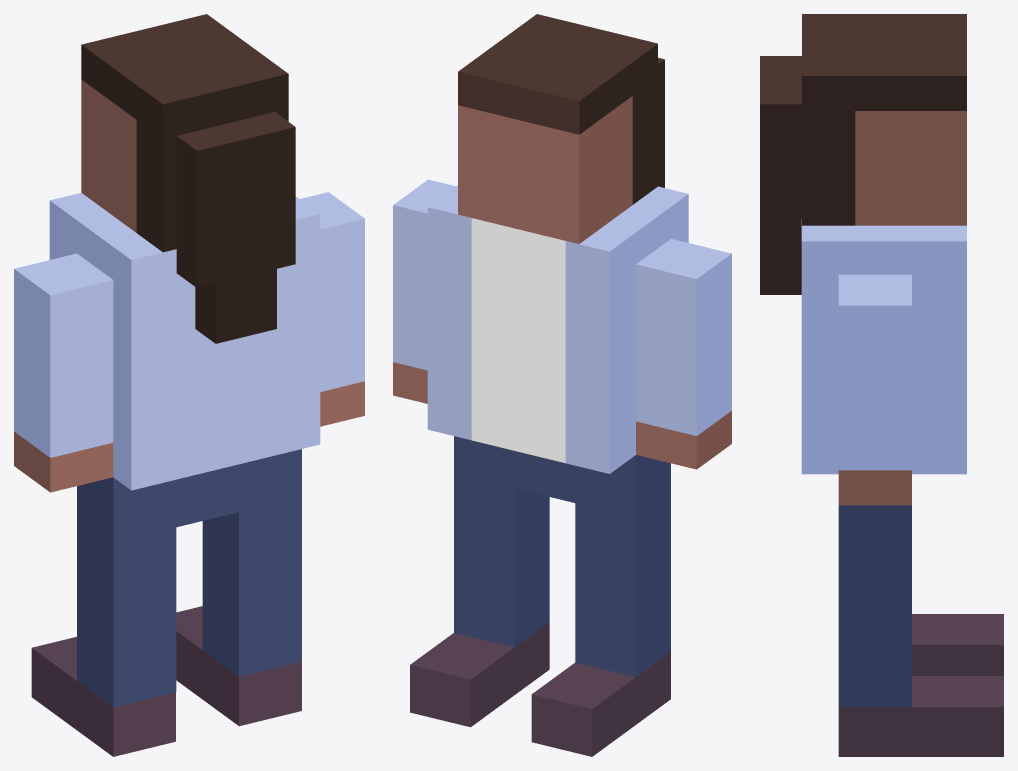
File: new-person-4.1.glb
3 renders of one model, left to right at view 1: azimuth 30°, elevation 25°; view 2: azimuth 150°, elevation 25°; view 3: azimuth 270°, elevation 25°, orthographic. The views are drawn at different scales.
Parts seen in each view (by area): view 1: UNIT.061, UNIT.065, UNIT.064, UNIT.063, UNIT.062; view 2: UNIT.061, UNIT.065, UNIT.064, UNIT.063, UNIT.062; view 3: UNIT.061, UNIT.064, UNIT.062, UNIT.065.
Boxes of the visible parts, x1=… form: UNIT.061: x1=49, y1=14, x2=320, y2=527; UNIT.065: x1=31, y1=477, x2=176, y2=756; UNIT.064: x1=176, y1=449, x2=301, y2=726; UNIT.063: x1=14, y1=253, x2=113, y2=492; UNIT.062: x1=300, y1=192, x2=364, y2=426; UNIT.061: x1=427, y1=14, x2=688, y2=502; UNIT.065: x1=531, y1=455, x2=670, y2=756; UNIT.064: x1=410, y1=436, x2=549, y2=727; UNIT.063: x1=636, y1=239, x2=731, y2=469; UNIT.062: x1=393, y1=179, x2=455, y2=403; UNIT.061: x1=760, y1=14, x2=966, y2=474; UNIT.064: x1=838, y1=505, x2=1003, y2=756; UNIT.062: x1=838, y1=274, x2=911, y2=505; UNIT.065: x1=912, y1=614, x2=1003, y2=675.
Bounding box in the file's own units: 0.7001 × 1.4 × 0.4646.
Materials: 1 (1 with a texture image).
